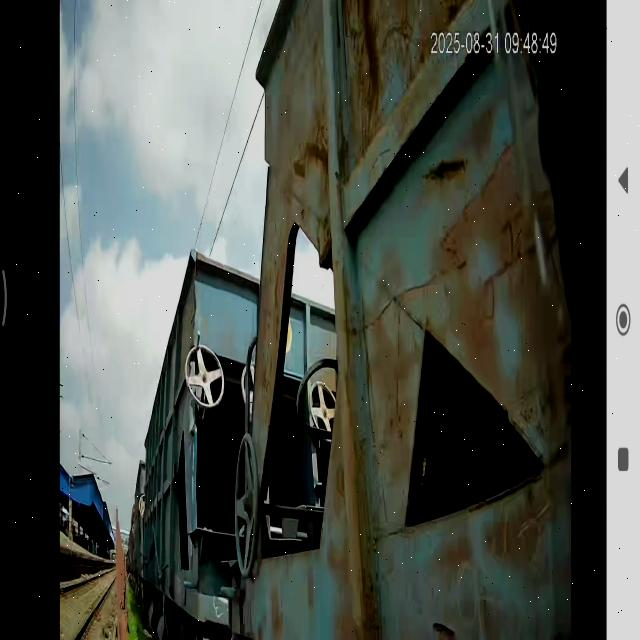joint: (166, 0, 381, 640)
